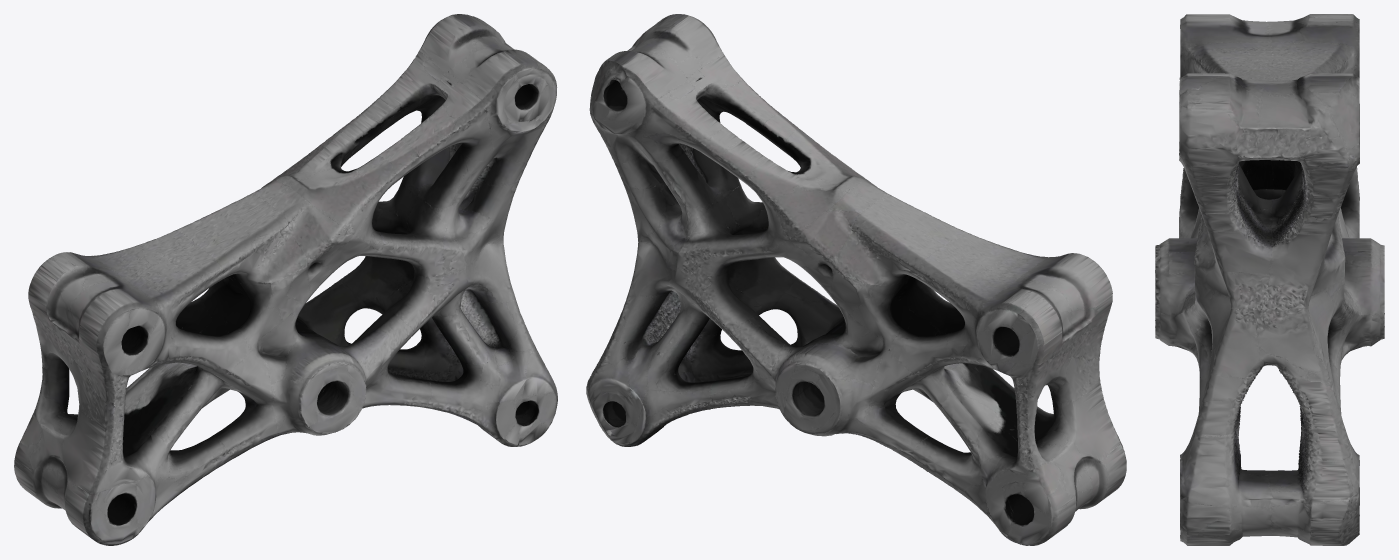
The model's file is hero-object.glb.
3 views of the same model, side by side, from view 1: azimuth 30°, elevation 25°; view 2: azimuth 150°, elevation 25°; view 3: azimuth 270°, elevation 25° (orthographic). The views are drawn at different scales.
Visible parts, largest first — view 1: tmpe3eoos6hobj; view 2: tmpe3eoos6hobj; view 3: tmpe3eoos6hobj.
Part boxes in pixels (<box>): tmpe3eoos6hobj: <box>14,14,557,545</box>; tmpe3eoos6hobj: <box>586,14,1126,545</box>; tmpe3eoos6hobj: <box>1155,14,1384,545</box>.
Bounding box in the file's own units: 0.9999 × 0.7697 × 0.3447.
1 material, 1 textured.
